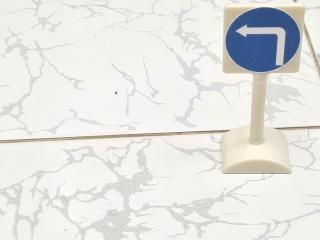left: (218, 2, 307, 78)
